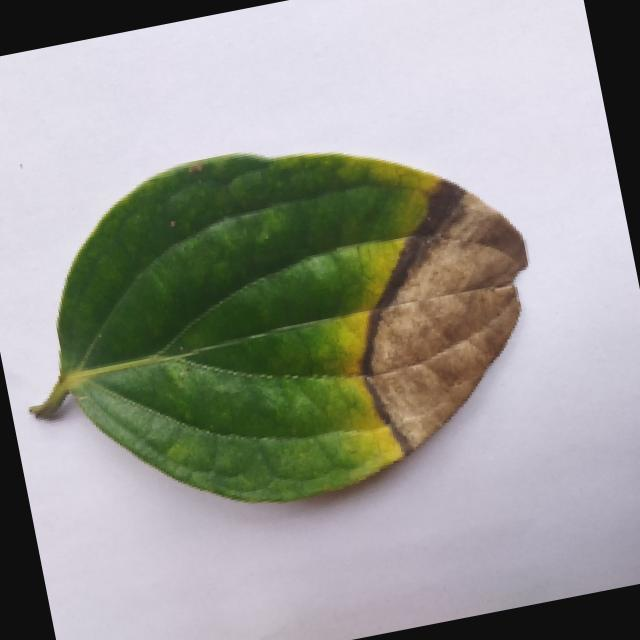footrot: (0, 95, 578, 558)
